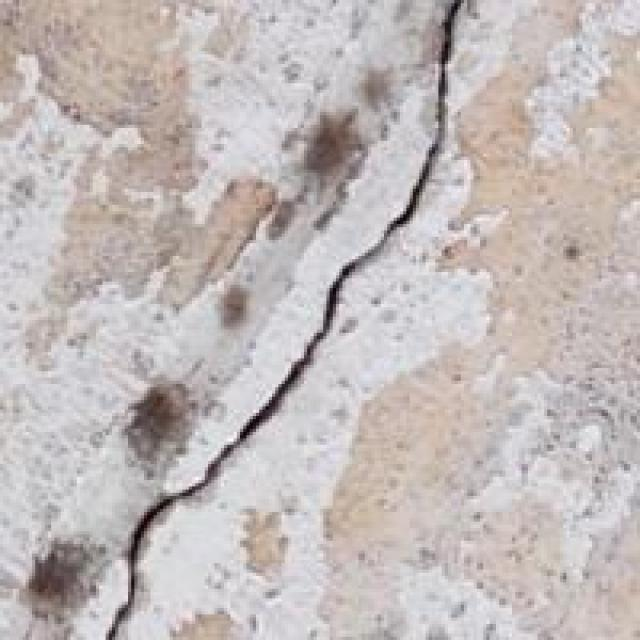Crack: (87, 3, 470, 637)
